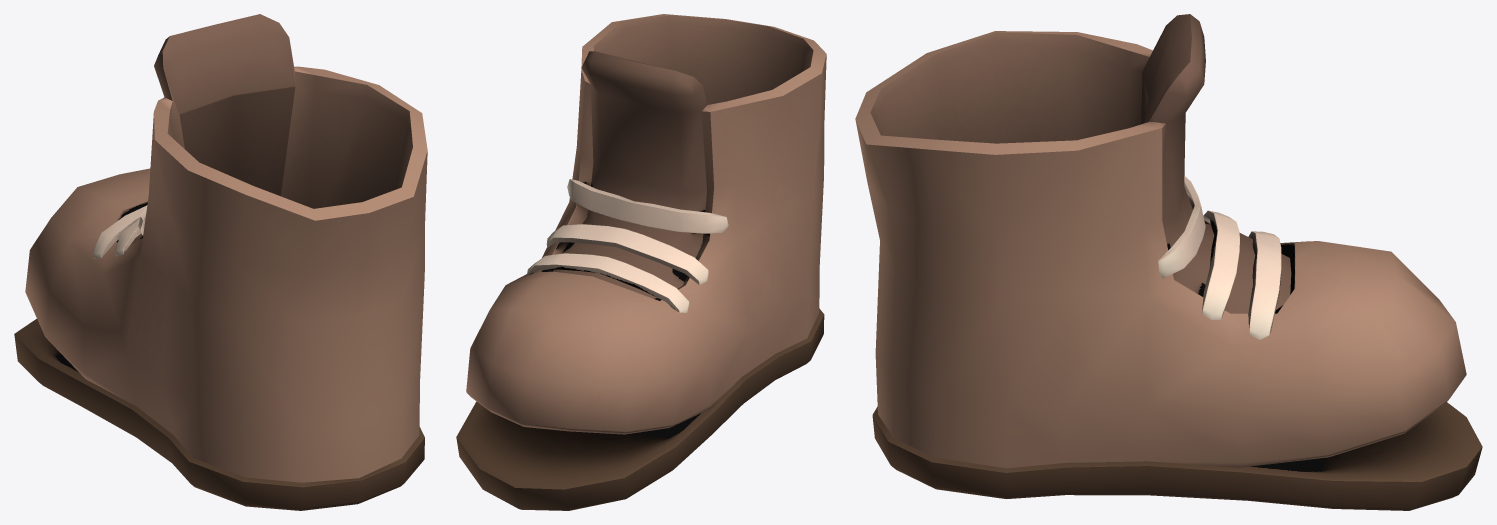
Rendered from boot.fbx.
3 renders of one model, left to right at view 1: azimuth 30°, elevation 25°; view 2: azimuth 150°, elevation 25°; view 3: azimuth 270°, elevation 25°, orthographic. The views are drawn at different scales.
Parts seen in each view (by area): view 1: boot; view 2: boot; view 3: boot.
Part boxes in pixels (box(x1,y1,x2,y2)): boot: box(14, 14, 427, 510); boot: box(456, 14, 826, 510); boot: box(855, 14, 1482, 510).
Bounding box in the file's own units: 1.29 × 2.14 × 2.76.
1 material, 1 textured.
